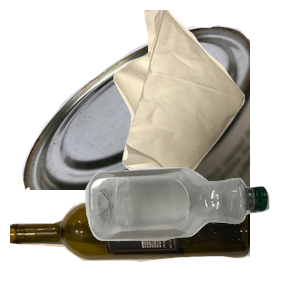glass: (10, 189, 250, 300)
metal: (19, 22, 259, 202)
plastic: (83, 165, 300, 300)
trash: (111, 10, 300, 190)
